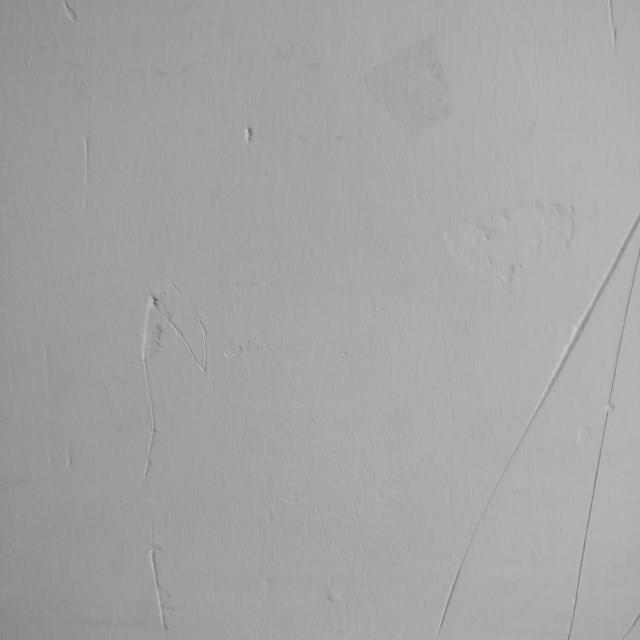rough and patchy surface: (408, 202, 640, 631), (118, 262, 228, 632), (554, 274, 640, 640), (263, 432, 376, 622), (424, 184, 604, 302), (40, 432, 84, 497), (72, 136, 100, 229), (224, 120, 264, 159), (45, 0, 92, 30), (599, 0, 627, 49)
